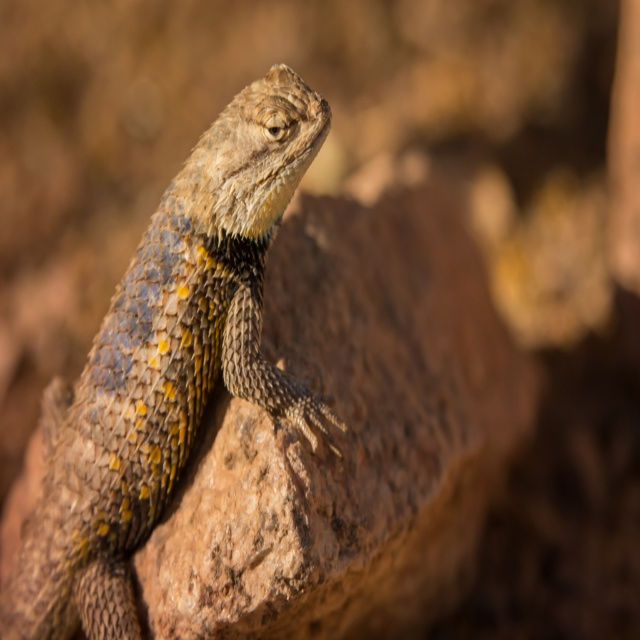Lizard: (24, 34, 346, 629)
